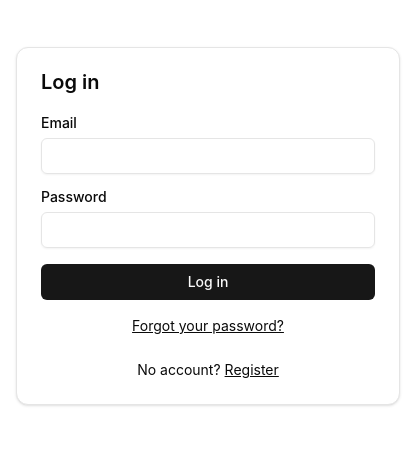
Test case: foundation › Errors announced
Type "alice@example.com" into the field labelled "Email" at x=208, y=156, box [41,138,375,174]
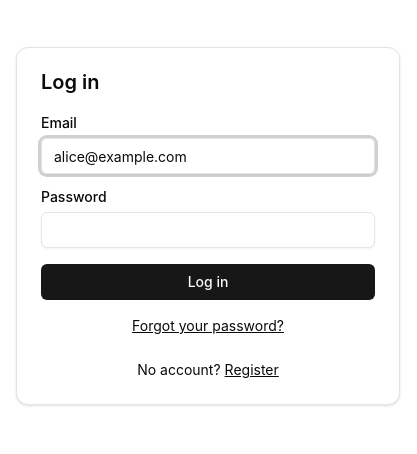
Type "password1" into the password field labelled "Password" at x=208, y=230, box [41,212,375,248]
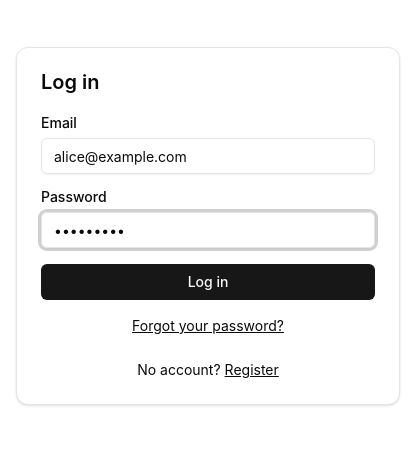
Click the button "Log in" at x=208, y=282, box [41,264,375,300]
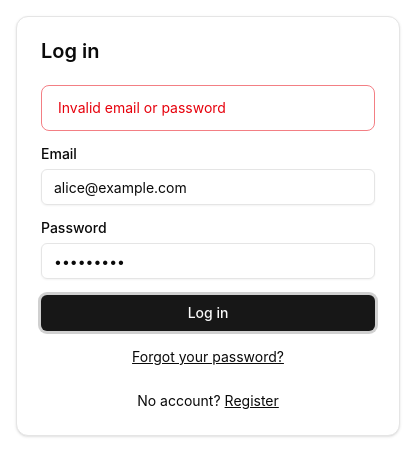
Expected: the message reads "Invalid email or password", [58,99,226,116]
